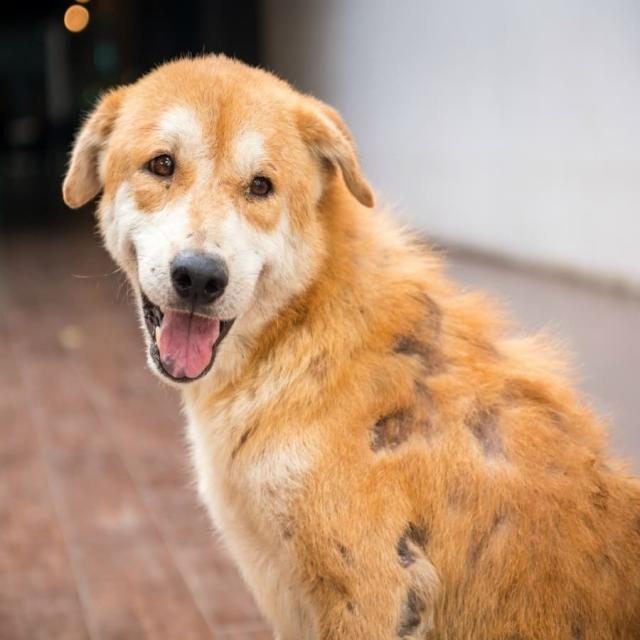allergic dermatitis: (354, 297, 521, 481), (391, 505, 466, 640)
